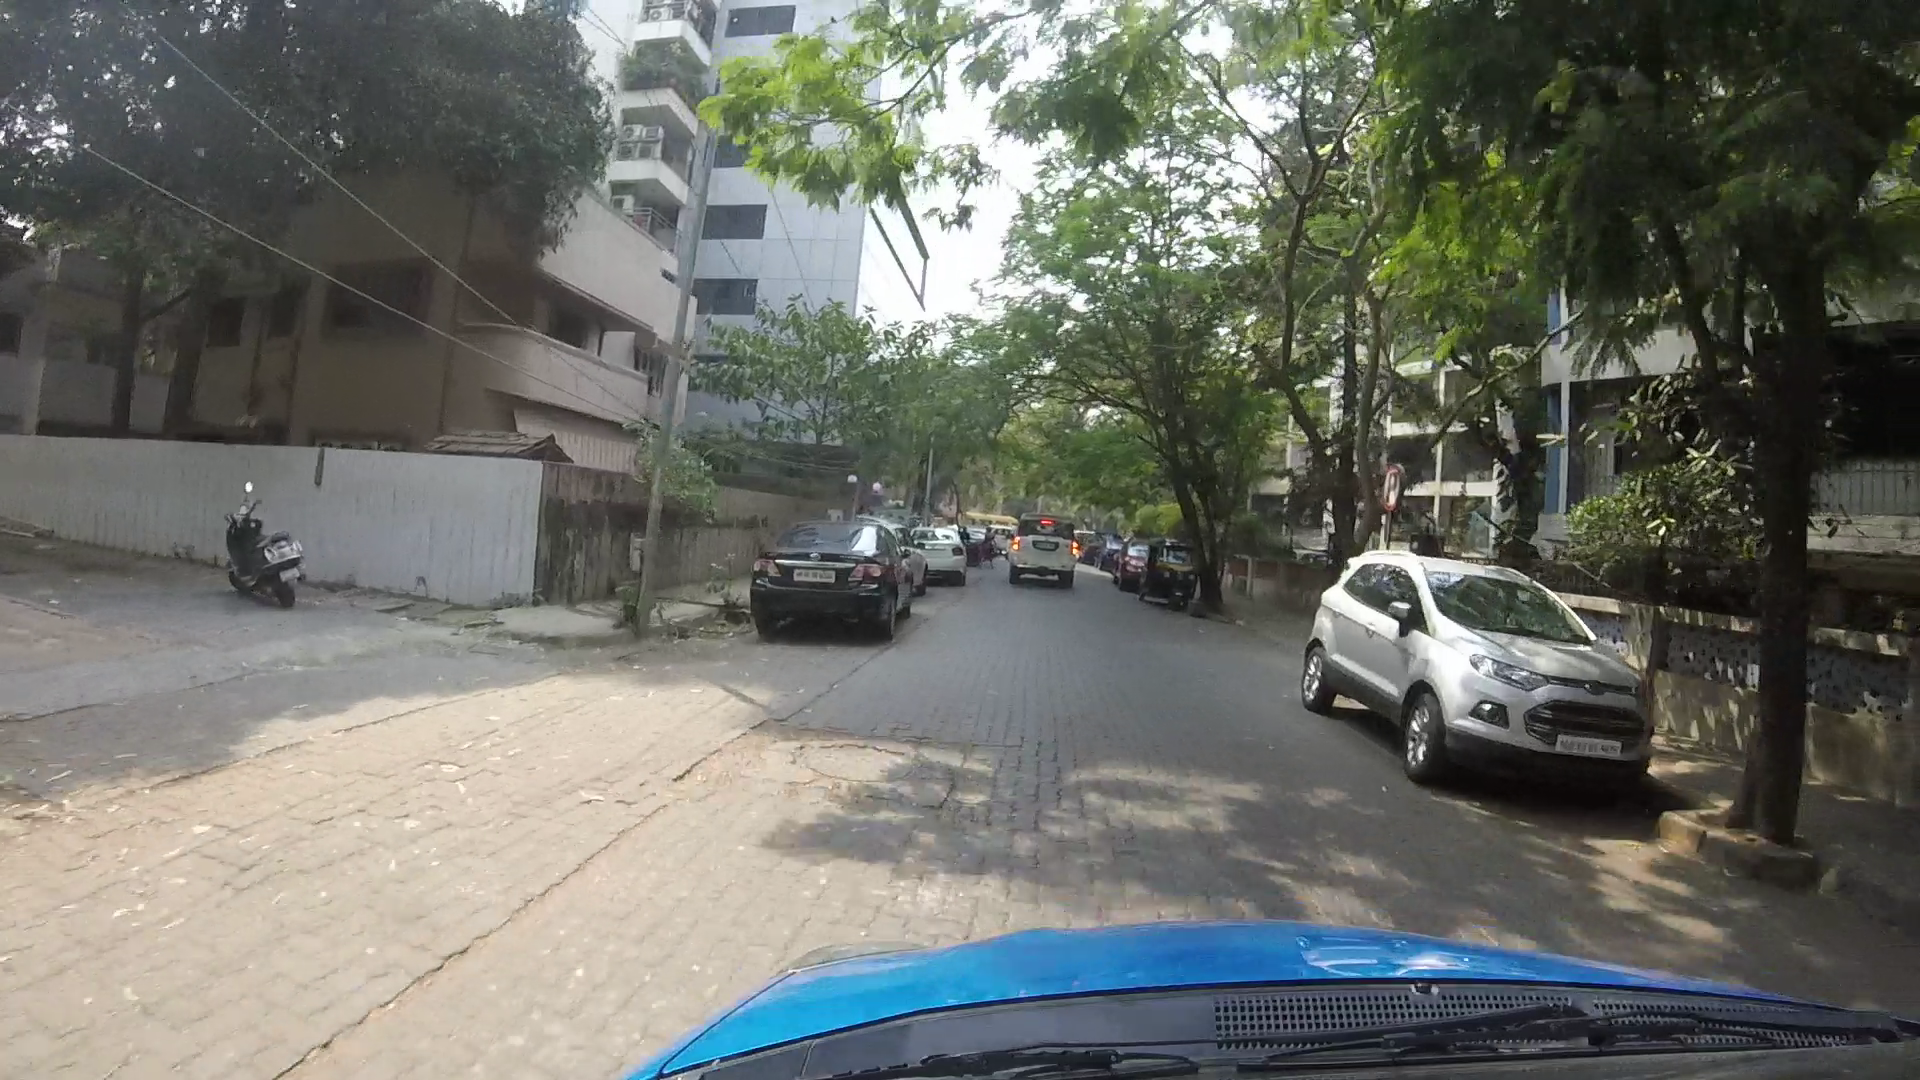car: (1296, 551, 1652, 786), (758, 520, 911, 630), (1004, 513, 1080, 584), (913, 526, 967, 582), (1117, 537, 1153, 592), (967, 527, 996, 562)
